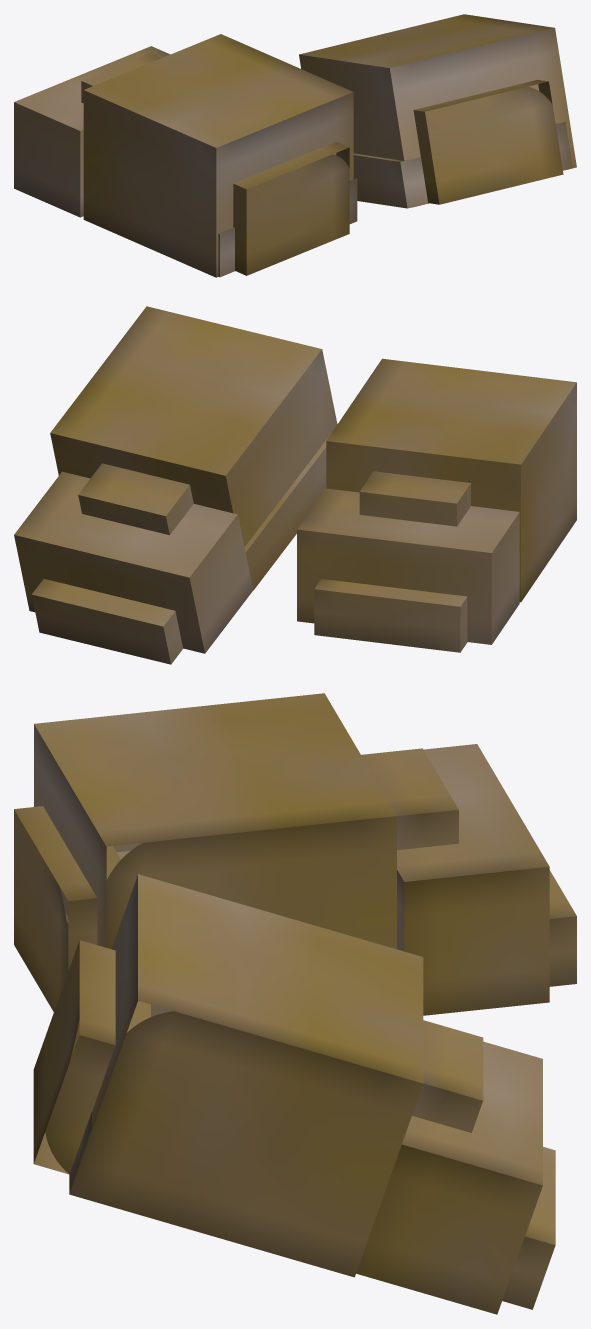
The model's file is t51_boots_broken.obj.
3 renders of one model, top to bottom at view 1: azimuth 30°, elevation 25°; view 2: azimuth 150°, elevation 25°; view 3: azimuth 270°, elevation 25°, orthographic. The views are drawn at different scales.
Visible parts, largest first — view 1: Boots; view 2: Boots; view 3: Boots.
Part boxes in pixels (x1=…): Boots: x1=14, y1=14, x2=576, y2=277; Boots: x1=14, y1=306, x2=576, y2=664; Boots: x1=14, y1=693, x2=576, y2=1314.
Bounding box in the file's own units: 0.6549 × 0.3023 × 0.4699.
